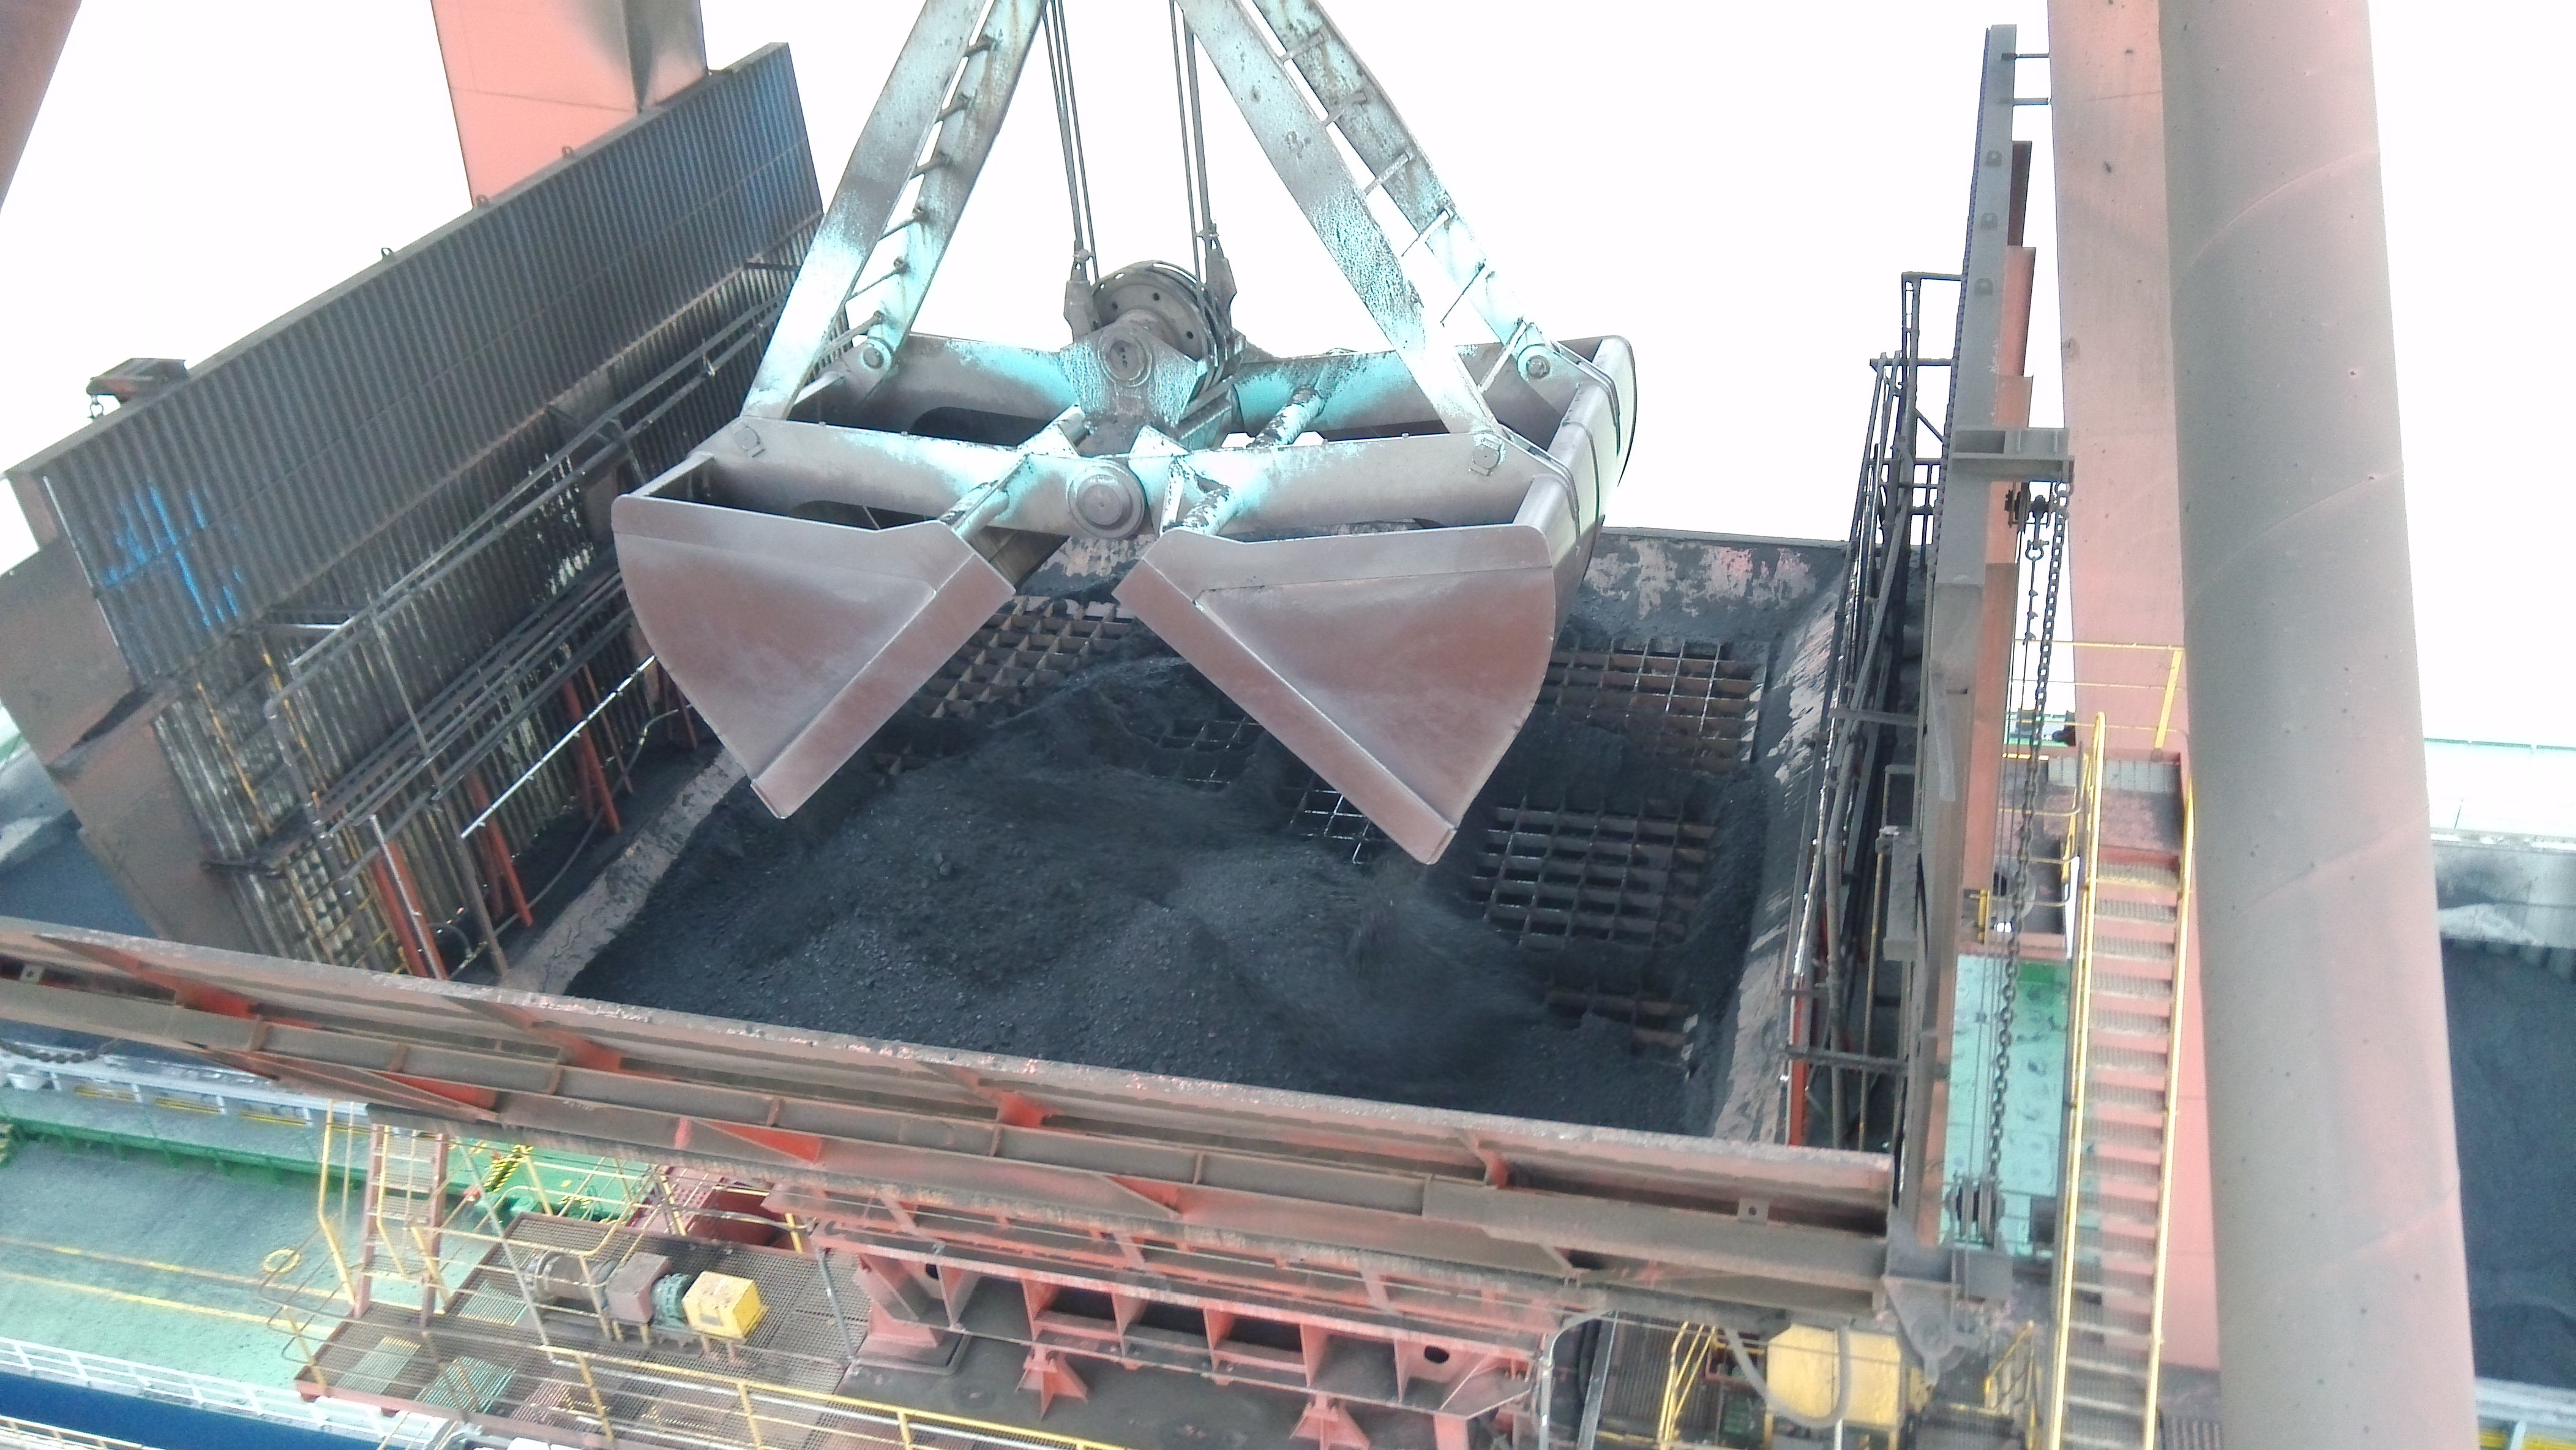grab: (594, 0, 1645, 875)
